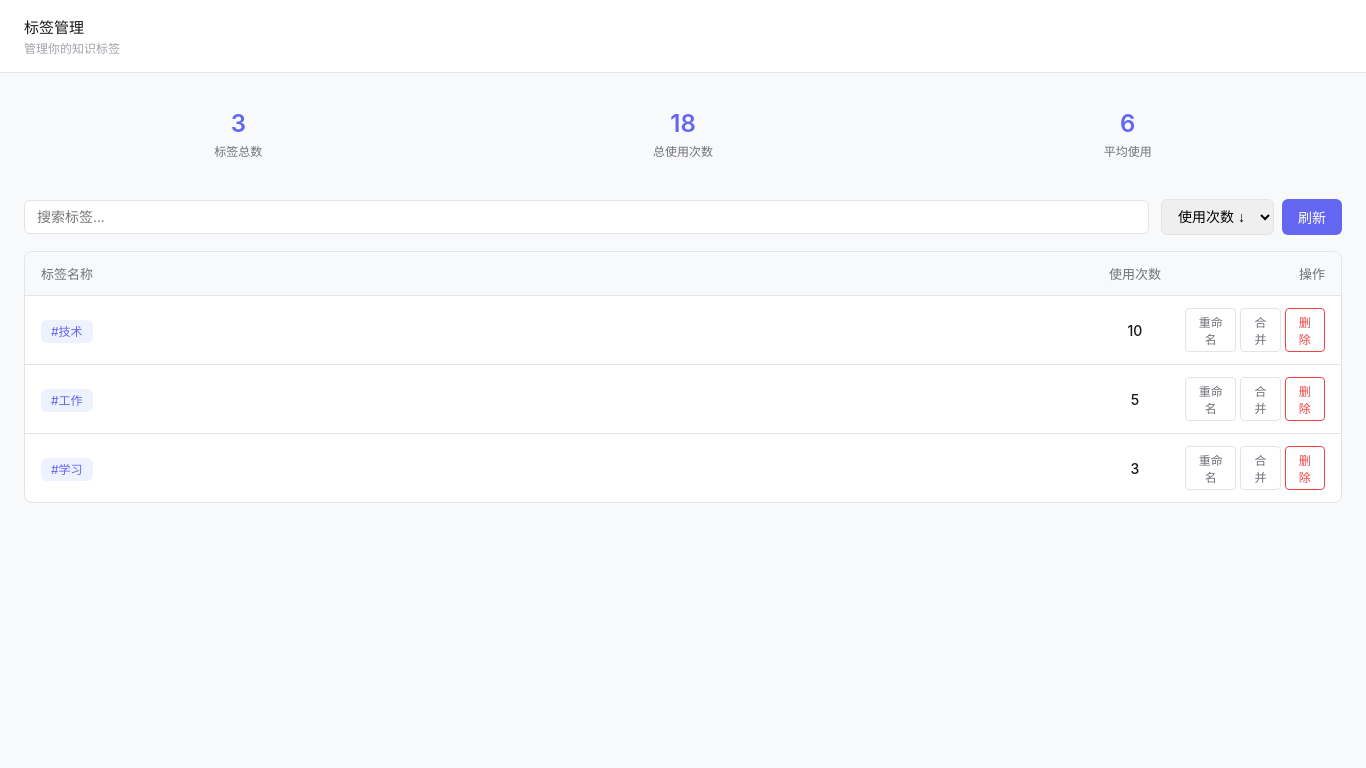
TagsManagement Component › should cancel delete when clicking cancel in dialog
The image size is (1366, 768).
# Click delete
What coordinates should you click on to do the following:
click the button "删除" in the row of "10"
I would click on:
 (1305, 330)
Its box is x1=1285 y1=308 x2=1325 y2=352.
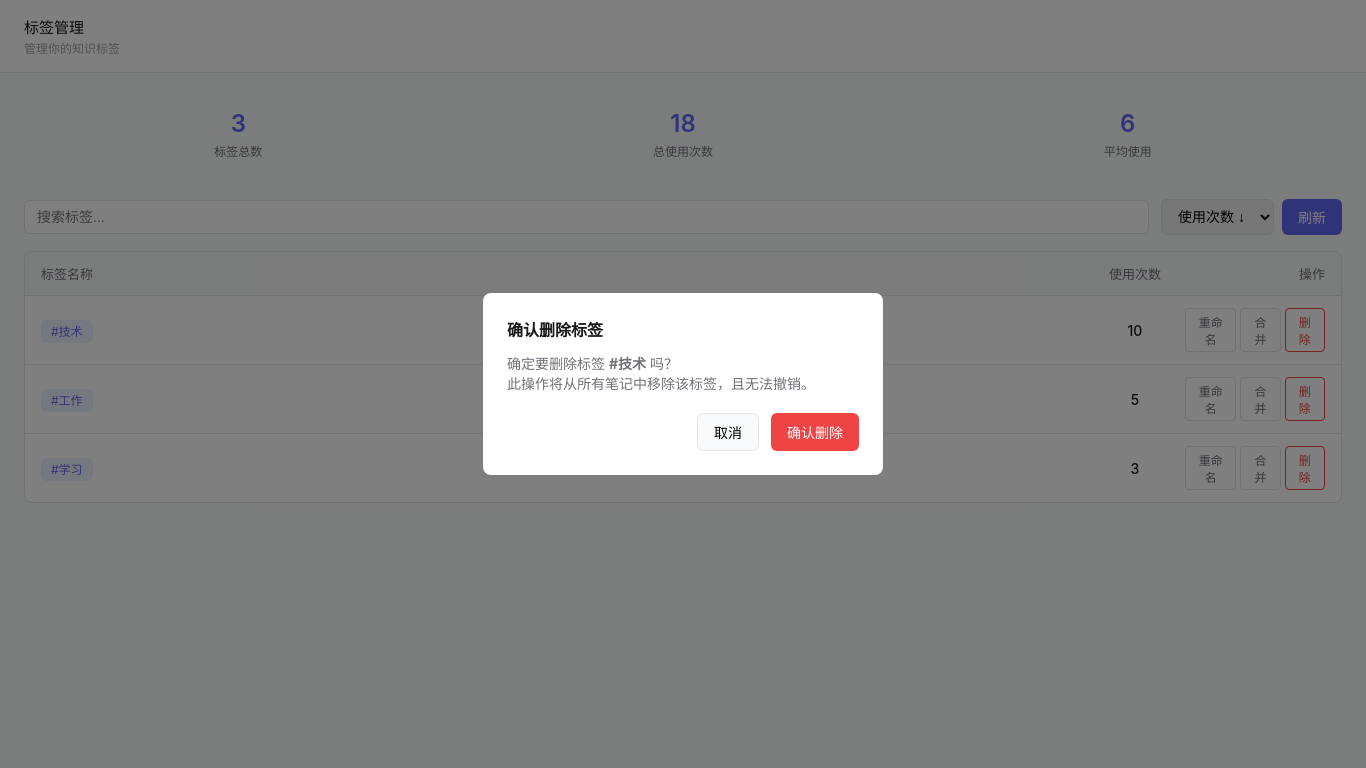
# Cancel in dialog
What coordinates should you click on to do the following:
click the button "取消"
I would click on:
 (728, 432)
Its box is x1=697 y1=413 x2=759 y2=451.
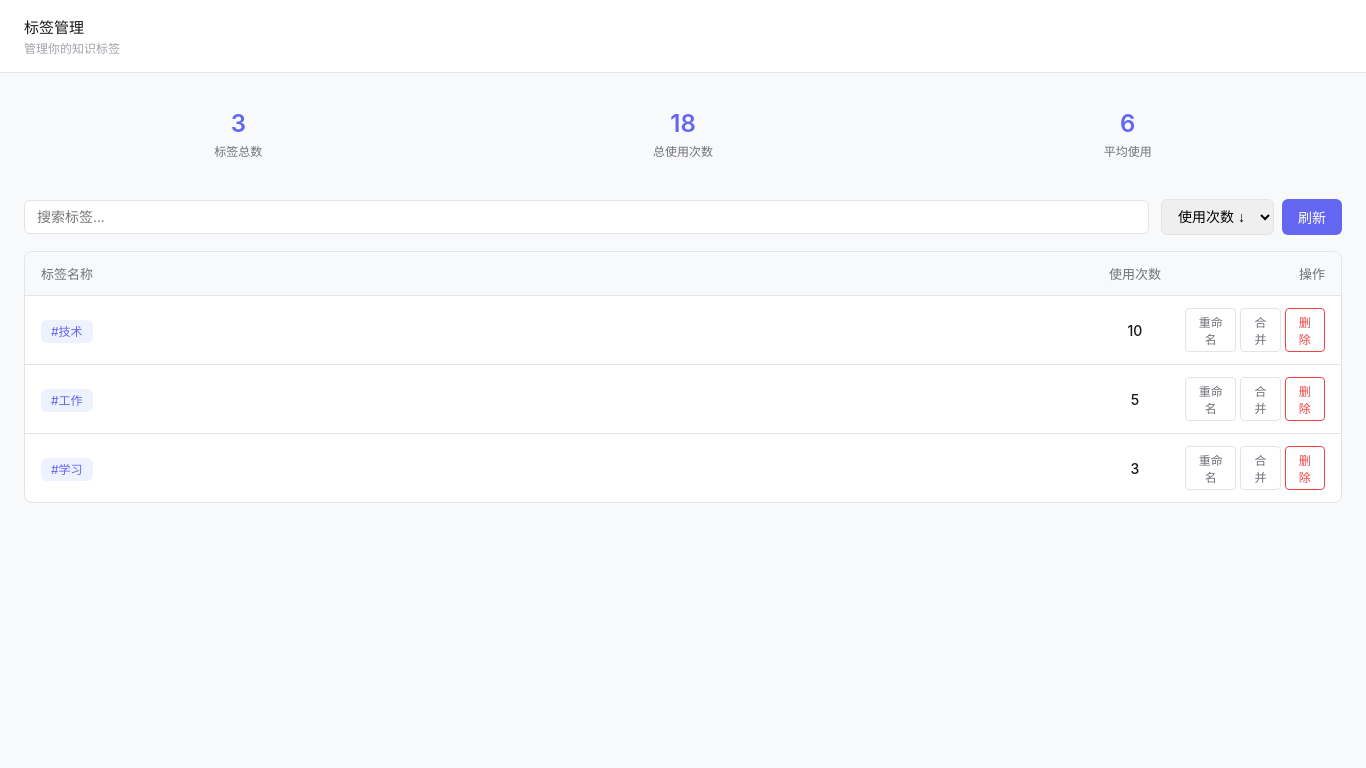
Now the text "确认删除标签" is gone
